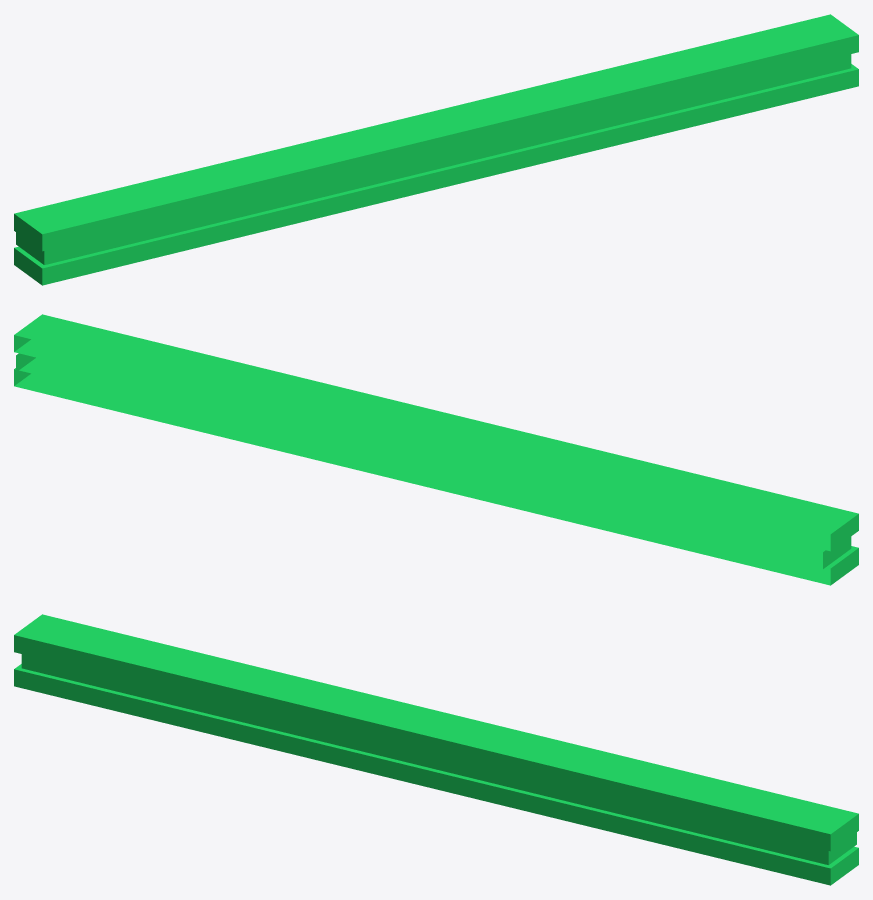
File: SM_wall_bot.fbx
The picture shows the model from 3 angles, top to bottom: view 1: azimuth 30°, elevation 25°; view 2: azimuth 150°, elevation 25°; view 3: azimuth 330°, elevation 25°; orthographic projection.
Parts seen in each view (by area): view 1: wall_con_low.001; view 2: wall_con_low.001; view 3: wall_con_low.001.
Boxes of the visible parts, box(x1,y1,x2,y2) form: wall_con_low.001: box(14, 14, 858, 285); wall_con_low.001: box(14, 314, 858, 585); wall_con_low.001: box(14, 614, 858, 885).
Bounding box in the file's own units: 500 × 30 × 33.
